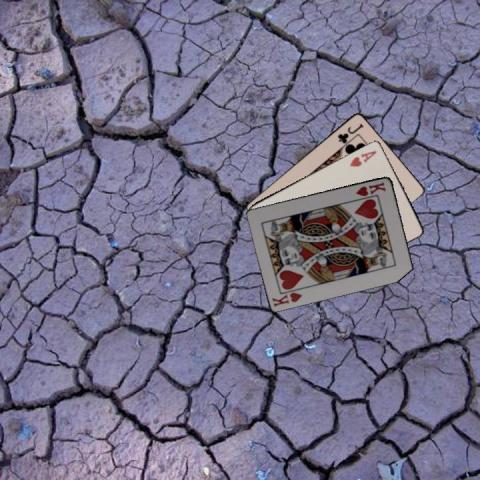Ah: (347, 147, 378, 168)
Jc: (334, 120, 364, 144)
Kh: (269, 289, 304, 308), (354, 179, 388, 197)
